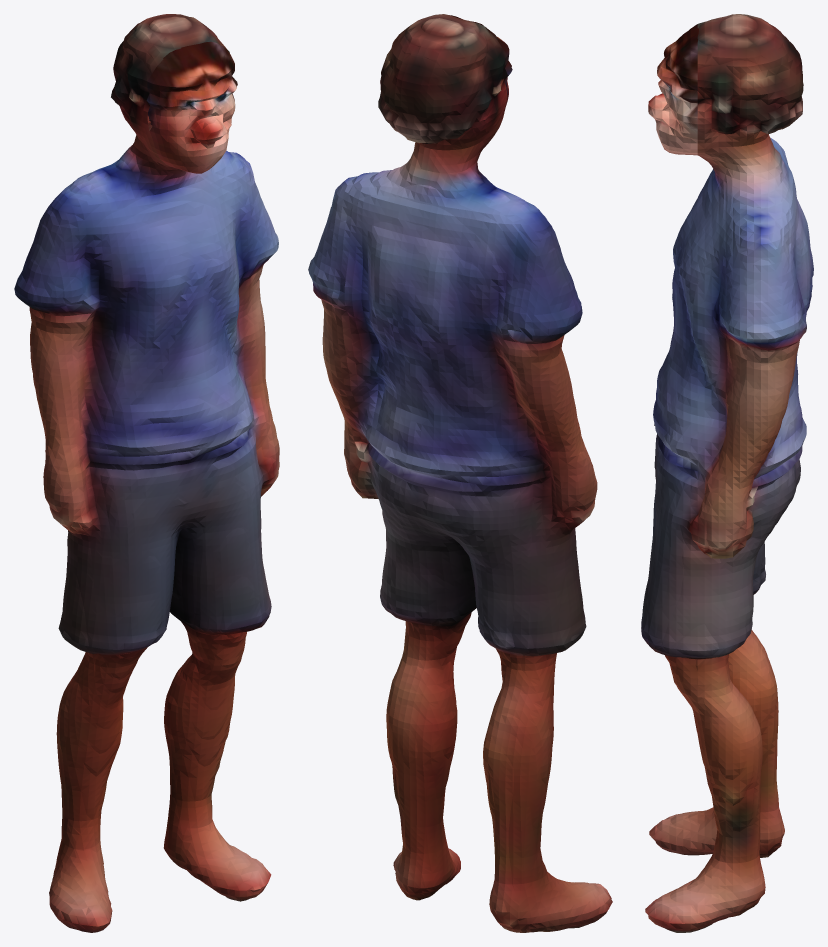
Rendered from result.fbx.
3 renders of one model, left to right at view 1: azimuth 30°, elevation 25°; view 2: azimuth 150°, elevation 25°; view 3: azimuth 270°, elevation 25°, orthographic. The views are drawn at different scales.
Visible parts, largest first — view 1: mesh; view 2: mesh; view 3: mesh.
Part boxes in pixels (x1=…): mesh: x1=14, y1=14, x2=279, y2=932; mesh: x1=308, y1=14, x2=612, y2=932; mesh: x1=641, y1=14, x2=813, y2=932.
Size of the model in its own units: 29.11 by 94.6 by 16.72.
2 materials, 1 textured.
